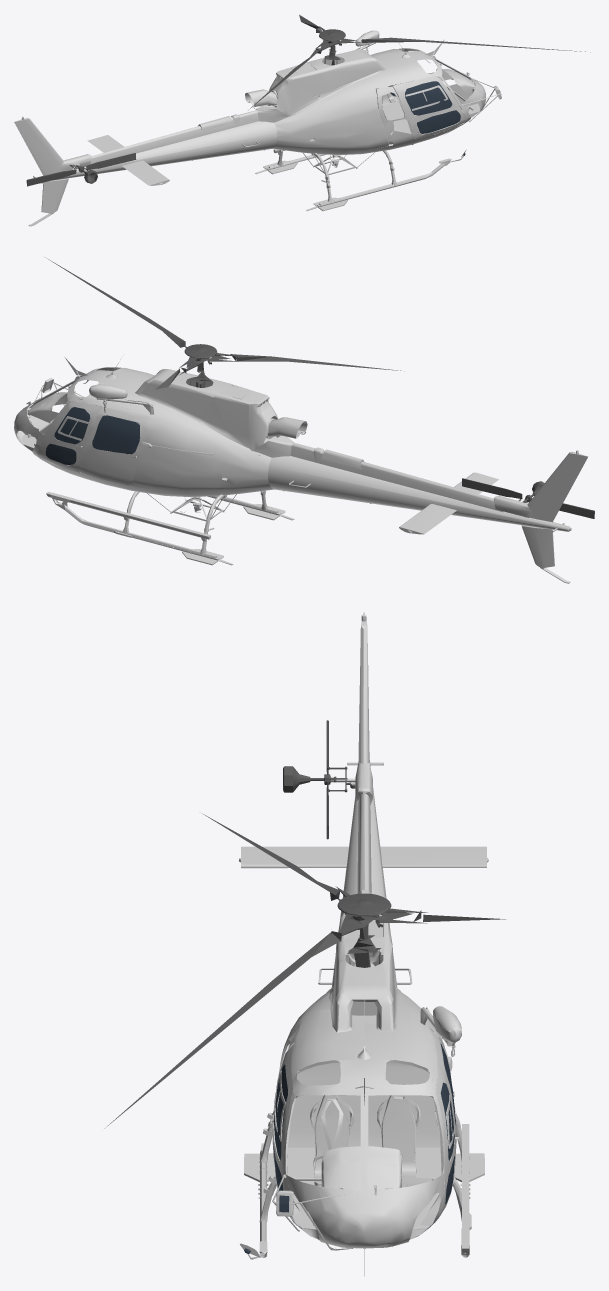
The picture shows the model from 3 angles, top to bottom: view 1: azimuth 30°, elevation 25°; view 2: azimuth 150°, elevation 25°; view 3: azimuth 270°, elevation 25°; orthographic projection. The views are drawn at different scales.
Parts seen in each view (by area): view 1: body, spin (×2), glass; view 2: body, spin (×2), glass; view 3: body, spin (×2), glass.
Part boxes in pixels (x1,y1,x2,y2): body: (14,30,501,226); spin (×2): (26,14,590,186); glass: (390,81,501,155); body: (14,356,588,583); spin (×2): (45,257,594,518); glass: (45,407,139,464); body: (239,612,488,1276); spin (×2): (104,720,505,1128); glass: (244,1043,455,1253).
Bounding box in the file's own units: 2.2 × 0.5985 × 0.7507.
